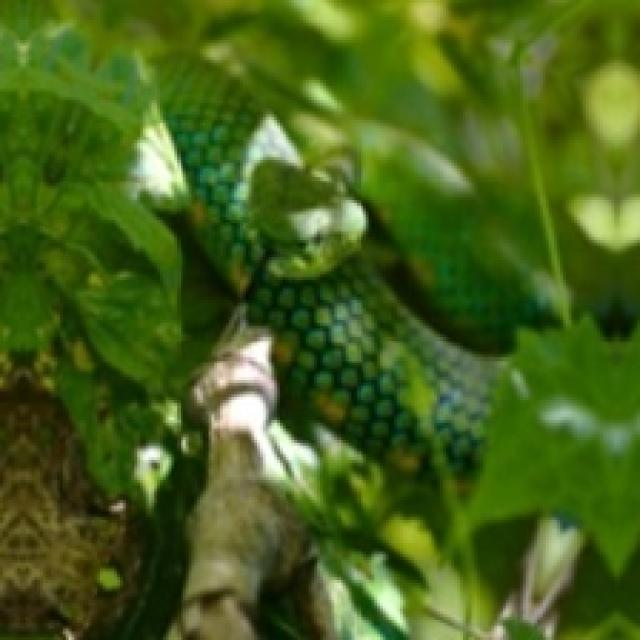philippine pitviper: (134, 49, 494, 474), (356, 124, 550, 351)
